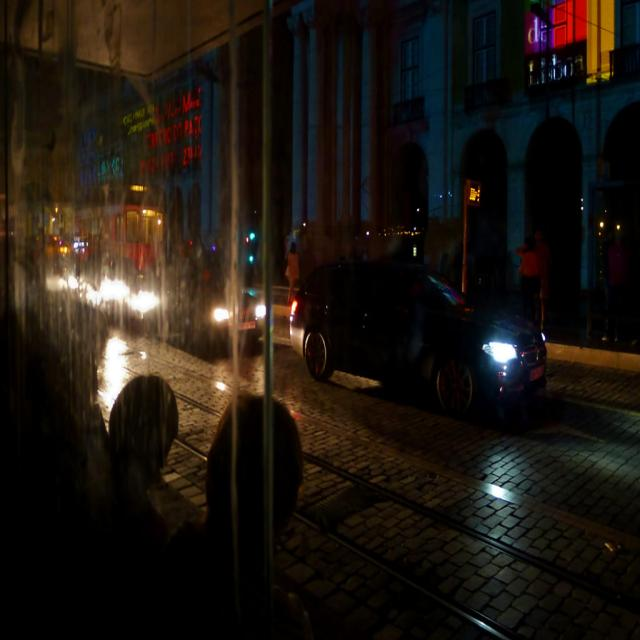Car: (272, 263, 572, 429), (177, 254, 265, 360), (91, 241, 173, 337)
